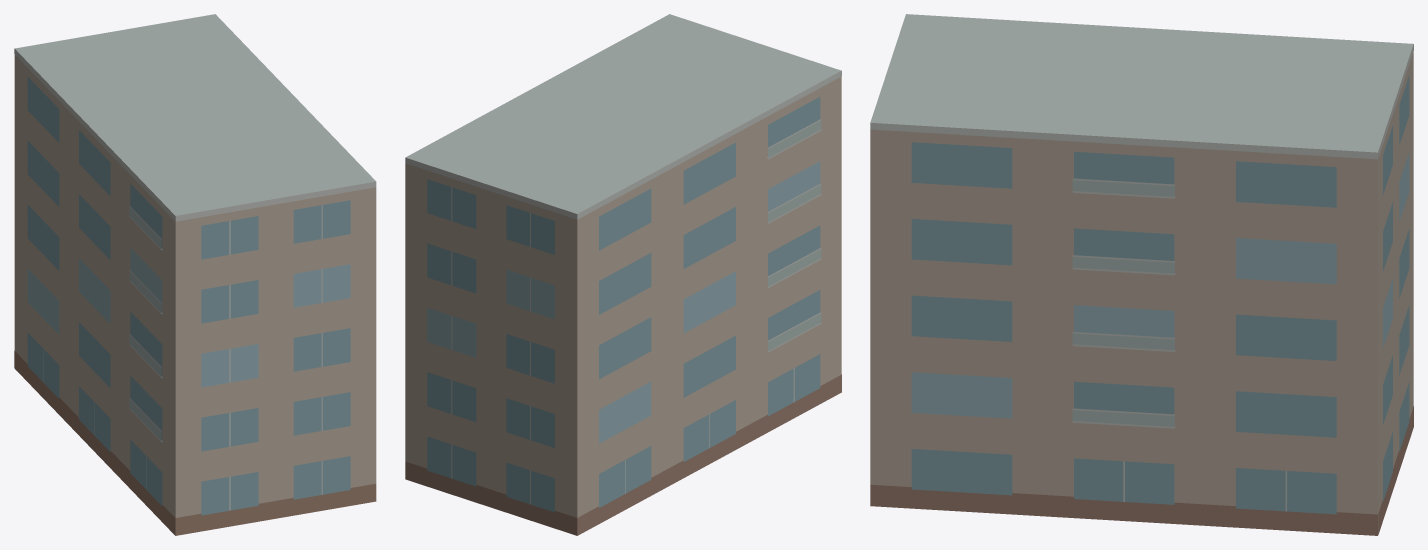
Rendered from survey-upis-32638222.glb.
The picture shows the model from 3 angles, left to right: view 1: azimuth 30°, elevation 25°; view 2: azimuth 150°, elevation 25°; view 3: azimuth 270°, elevation 25°; orthographic projection. The views are drawn at different scales.
Visible parts, largest first — view 1: survey-upis-32638222.tmp; view 2: survey-upis-32638222.tmp; view 3: survey-upis-32638222.tmp.
Part boxes in pixels (x1,y1,x2,y2): survey-upis-32638222.tmp: [14, 14, 376, 535]; survey-upis-32638222.tmp: [405, 14, 841, 535]; survey-upis-32638222.tmp: [870, 14, 1413, 535].
Bounding box in the file's own units: 10.71 × 13.8 × 17.74.
